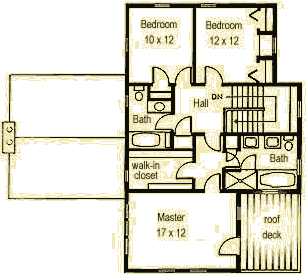door: (200, 62, 226, 87), (217, 235, 241, 258), (149, 63, 171, 87), (174, 63, 194, 87), (201, 172, 223, 193), (201, 132, 221, 154), (172, 161, 195, 179), (152, 113, 173, 132), (219, 150, 241, 168), (174, 114, 192, 135), (241, 153, 259, 171)
large sink: (129, 85, 148, 102), (281, 133, 298, 152)
small sink: (148, 99, 173, 115), (240, 134, 261, 151), (262, 133, 281, 150)
stairs: (211, 81, 299, 137)
tub: (127, 129, 168, 152), (257, 169, 299, 191)
windows: (121, 200, 131, 258), (157, 266, 211, 276), (295, 99, 305, 121), (270, 34, 279, 55), (121, 167, 131, 185), (152, 1, 171, 10), (199, 1, 220, 9), (122, 92, 130, 110)
